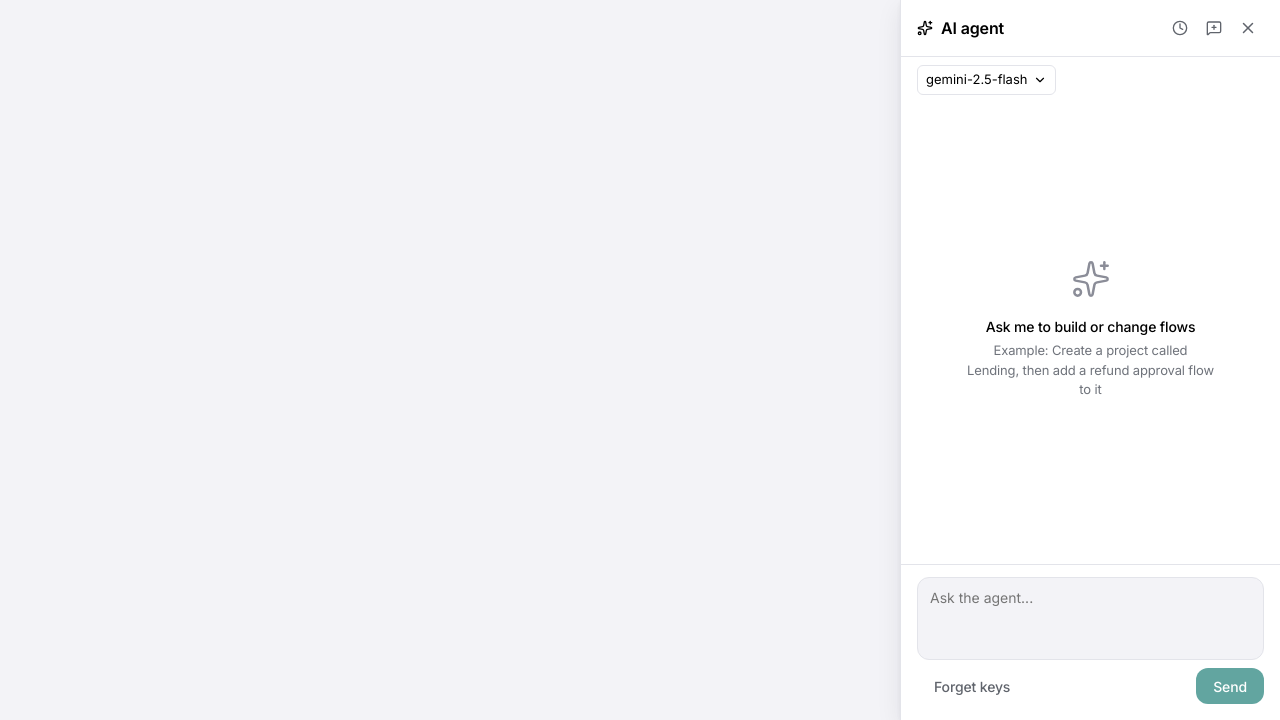
Test case: AgentPanel › approves a destructive tool with Delete
Step 1. Type "delete it" into the text box named "Message" → (1090, 619), box [917,577,1264,660]
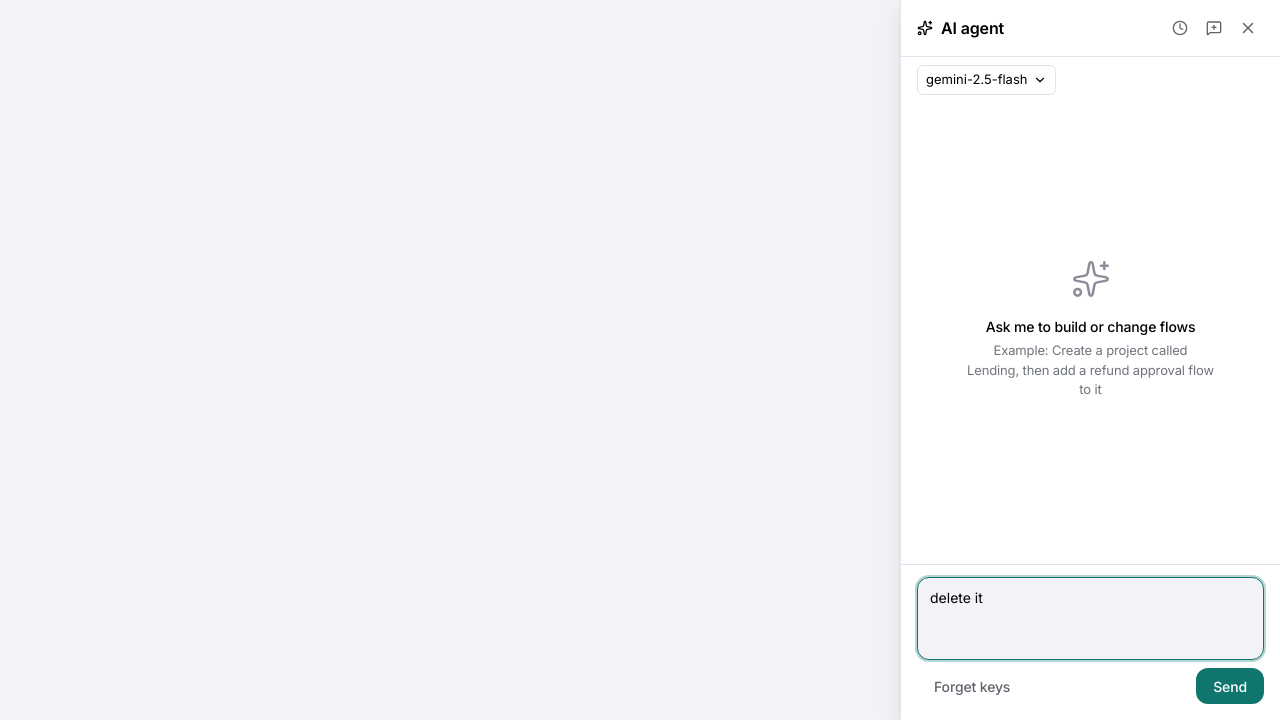
Step 2. Click the button "Send" → (1230, 686), box [1196,668,1264,704]
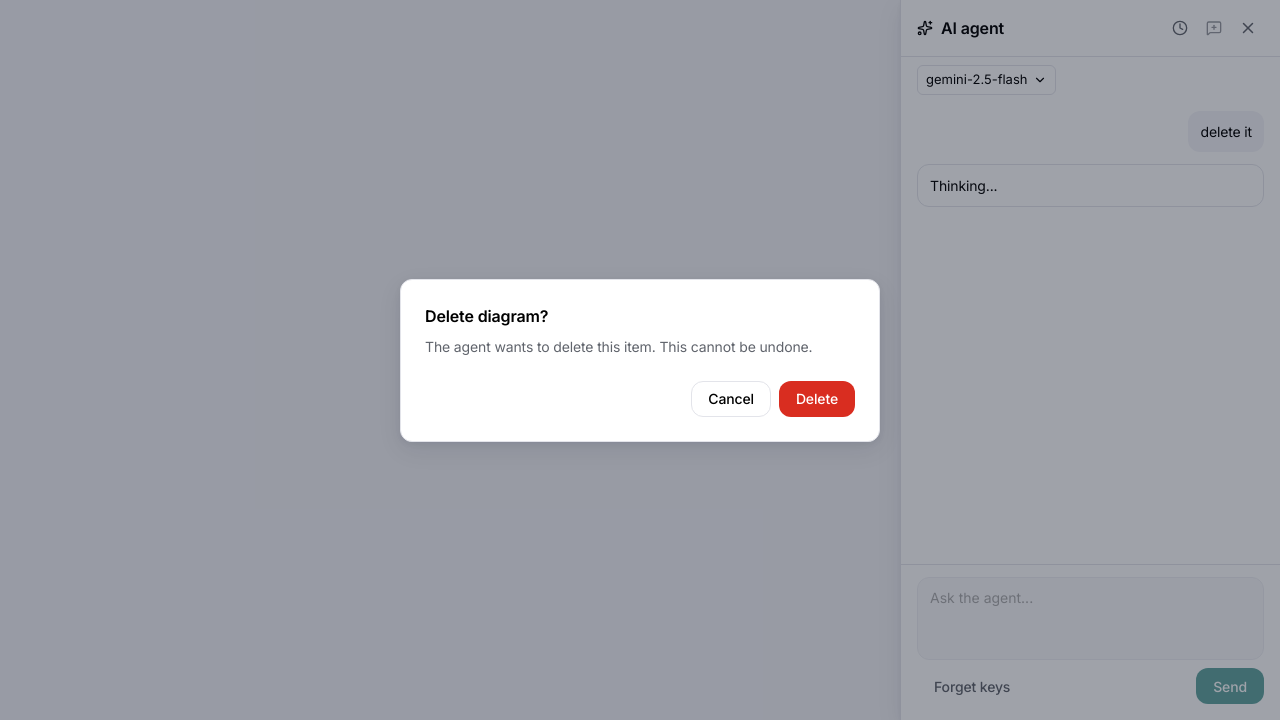
Step 3. Click the button "Delete" → (817, 398), box [779,380,855,416]
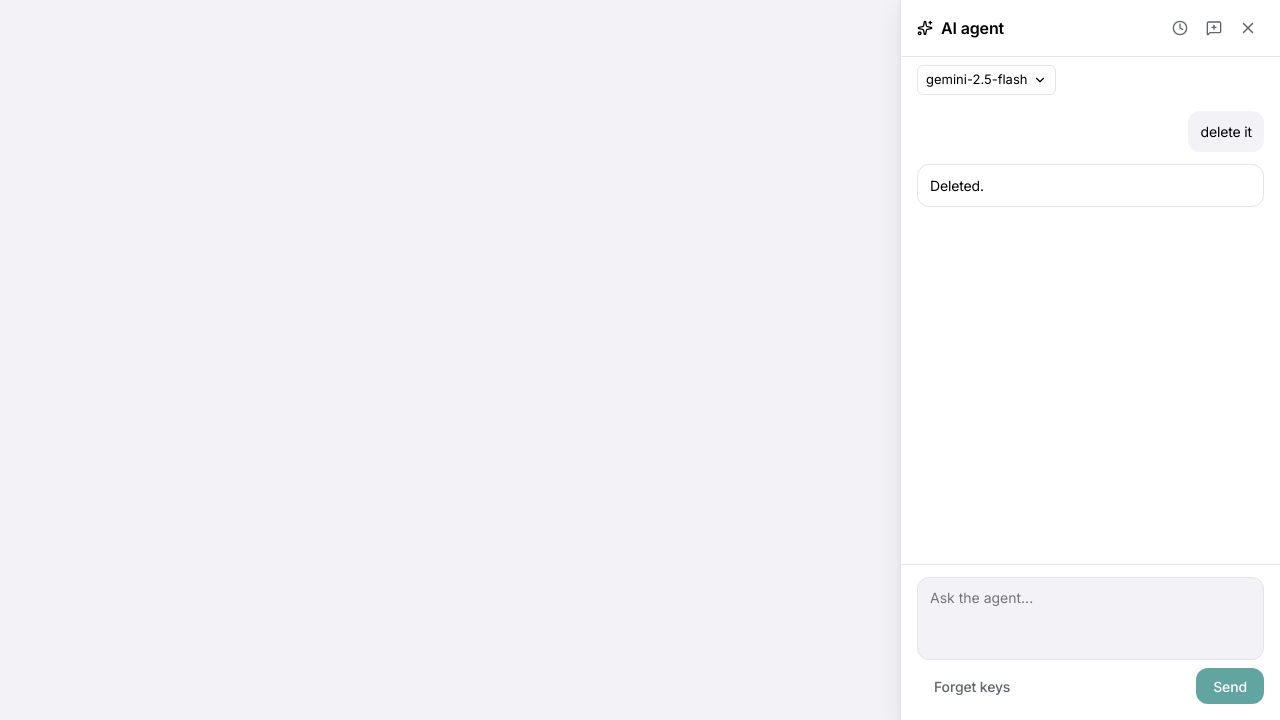
Check: the text "Deleted." is shown, box [917,164,1264,206]
